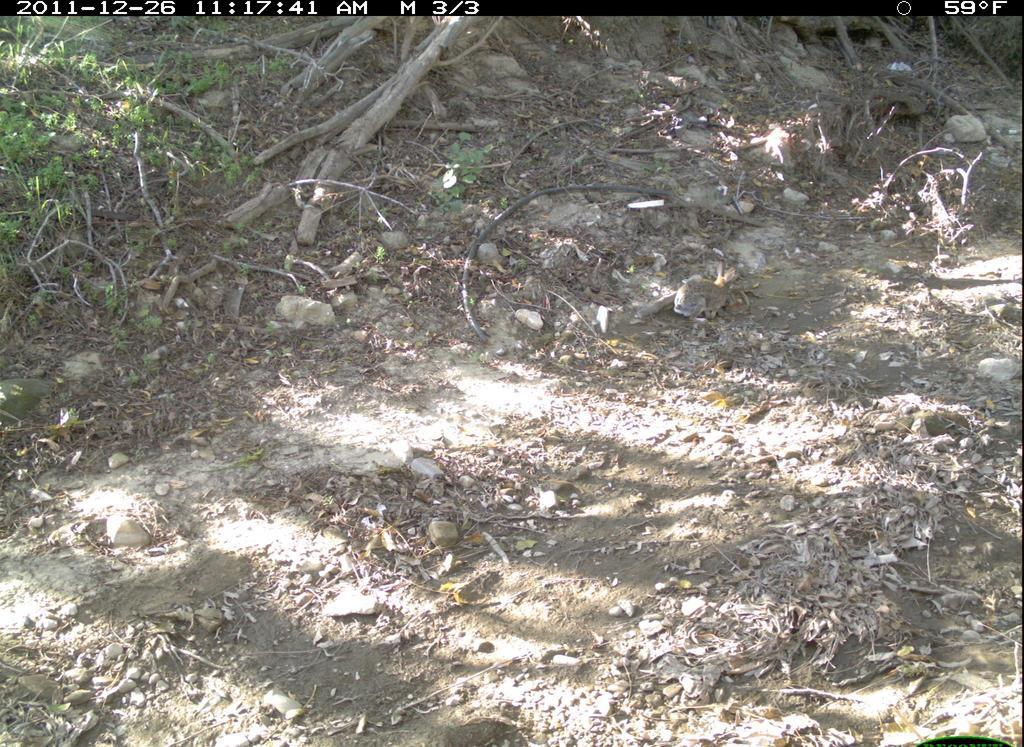rabbit: (668, 257, 757, 332)
